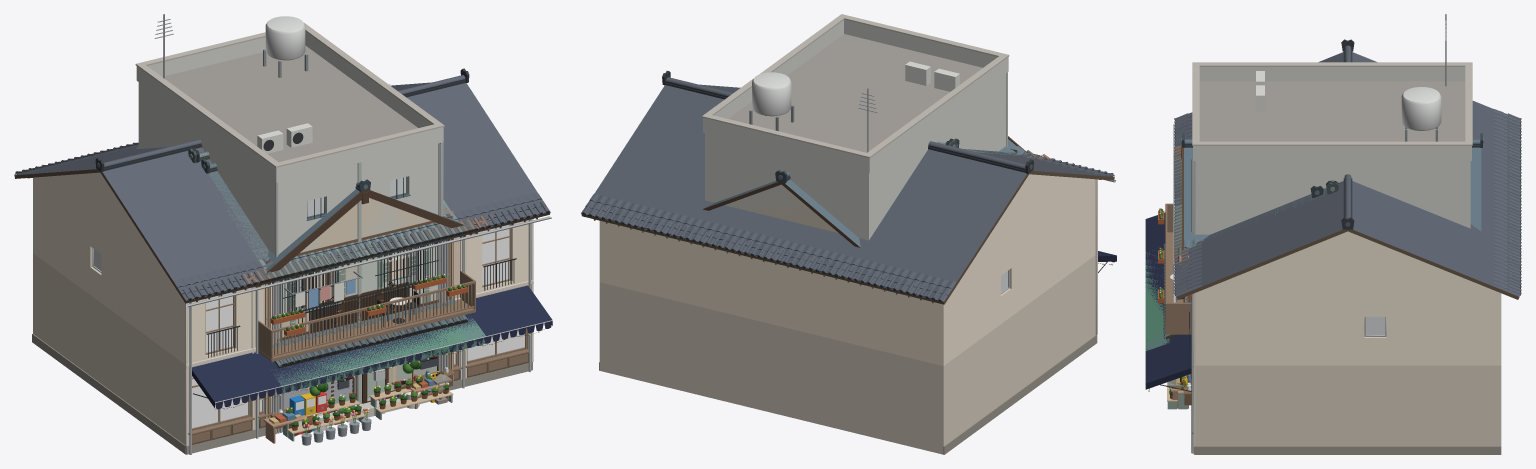
The model's file is hero.glb.
3 views of the same model, side by side, from view 1: azimuth 30°, elevation 25°; view 2: azimuth 150°, elevation 25°; view 3: azimuth 270°, elevation 25° (orthographic).
Visible parts, largest first — view 1: cafe, tower, flower, souvenir, pottery, izakaya, house, lattice; view 2: cafe, tower, pottery; view 3: cafe, tower, pottery, flower, souvenir, house, lattice, izakaya.
Part boxes in pixels (x1,y1,x2,y2): cafe: [14, 68, 552, 454]; tower: [135, 14, 444, 431]; flower: [188, 148, 467, 445]; souvenir: [243, 207, 492, 443]; pottery: [136, 147, 475, 432]; izakaya: [192, 148, 461, 436]; house: [201, 159, 458, 432]; lattice: [258, 220, 476, 424]; cafe: [581, 70, 1116, 454]; tower: [702, 14, 1009, 240]; pottery: [703, 136, 1027, 247]; cafe: [1145, 39, 1521, 454]; tower: [1191, 14, 1472, 235]; pottery: [1163, 133, 1483, 405]; flower: [1145, 158, 1338, 409]; souvenir: [1145, 145, 1193, 408]; house: [1173, 160, 1323, 256]; lattice: [1163, 153, 1191, 389]; izakaya: [1163, 158, 1338, 389].
Bounding box in the file's own units: 13.87 × 11.6 × 12.27.
